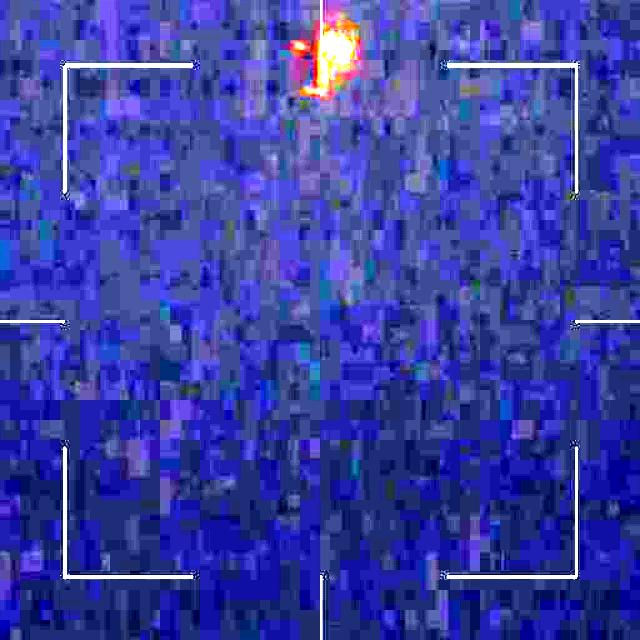bird: (270, 28, 354, 94)
